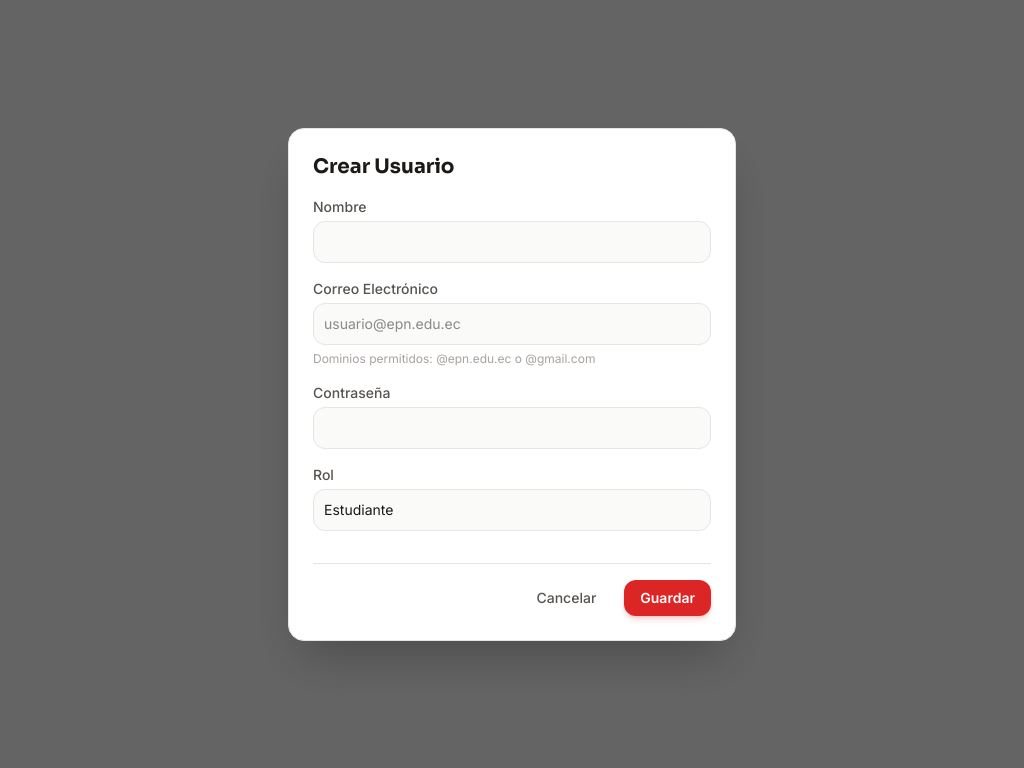
Test: UserFormModal — dominios de correo permitidos › no deja pasar un dominio parecido que suplanta al institucional
Type " impostor " into the field labelled "Nombre" at (512, 242), box [313,220,711,262]
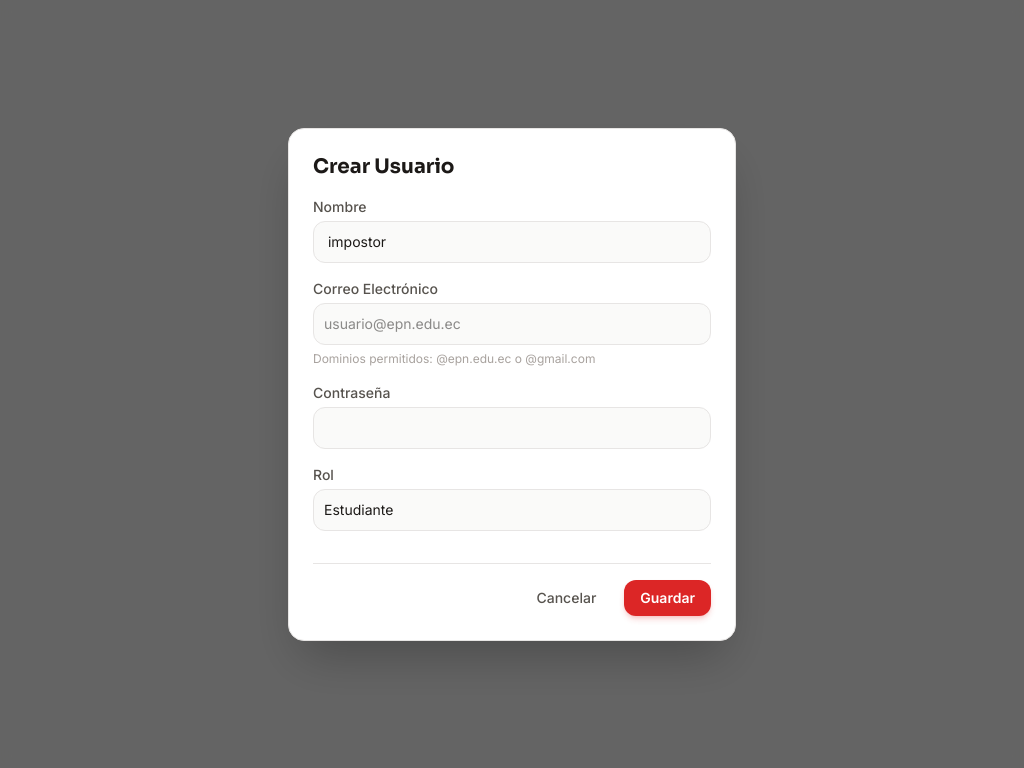
Type "atacante@epn.edu.ec.attacker.com" into the field labelled "Correo Electrónico" at (512, 324), box [313,302,711,344]
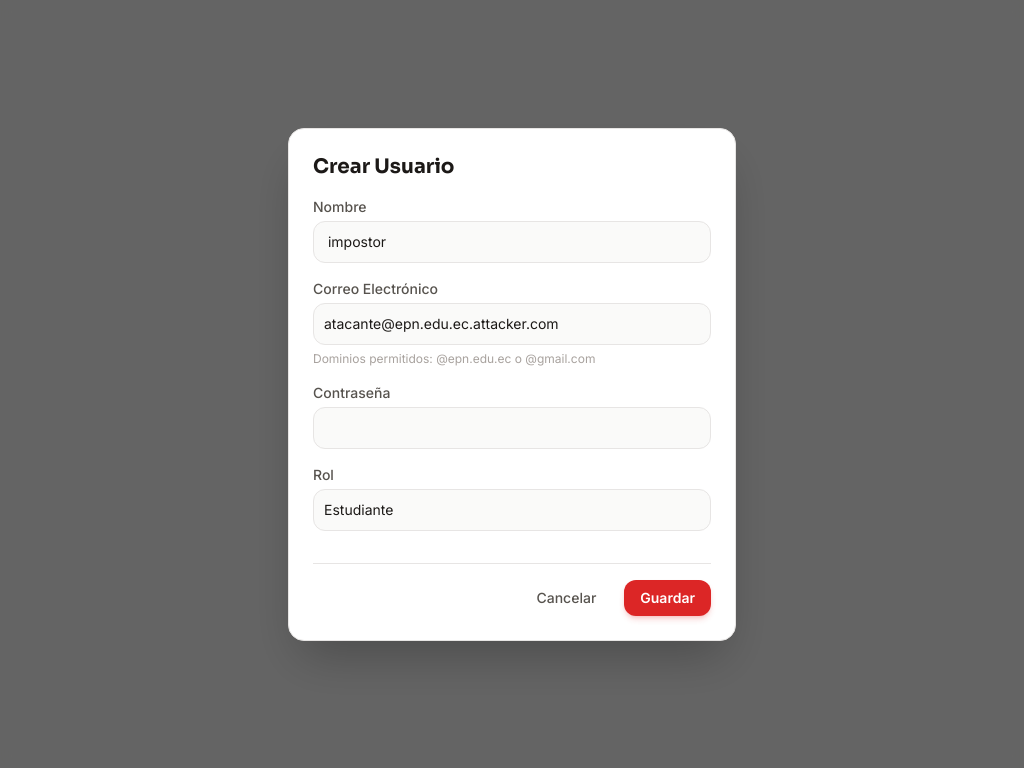
Type "Password123" into the password field labelled "Contraseña" at (512, 428), box [313,406,711,448]
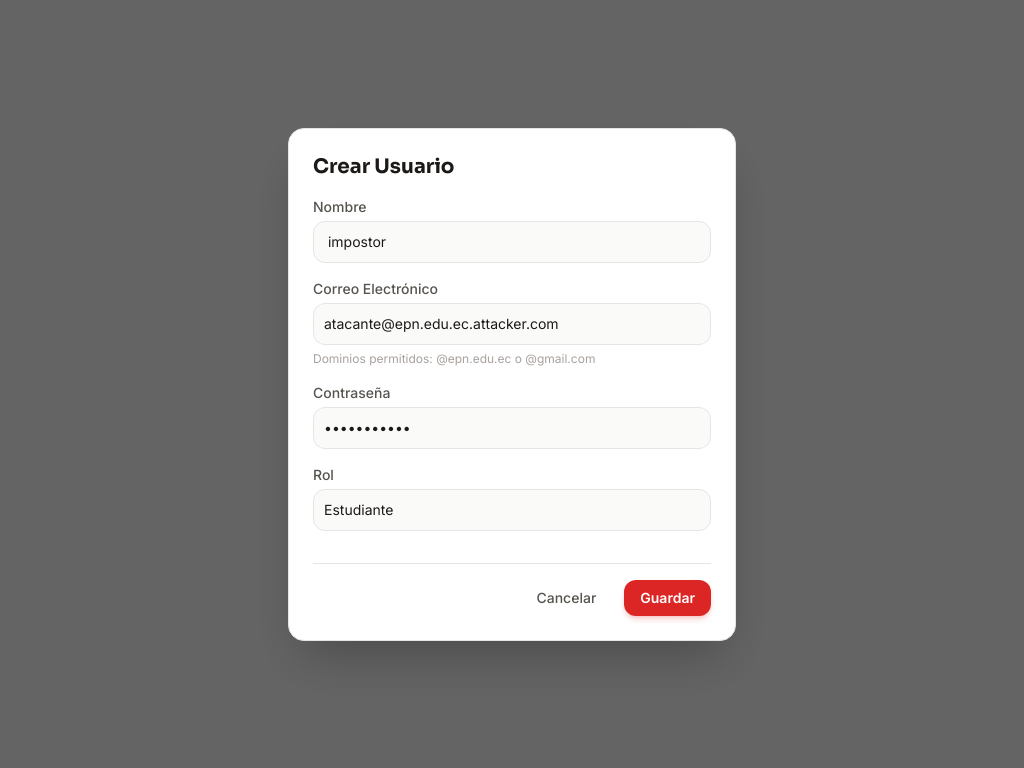
Click the button "Guardar" at (668, 598), box [624,580,711,616]
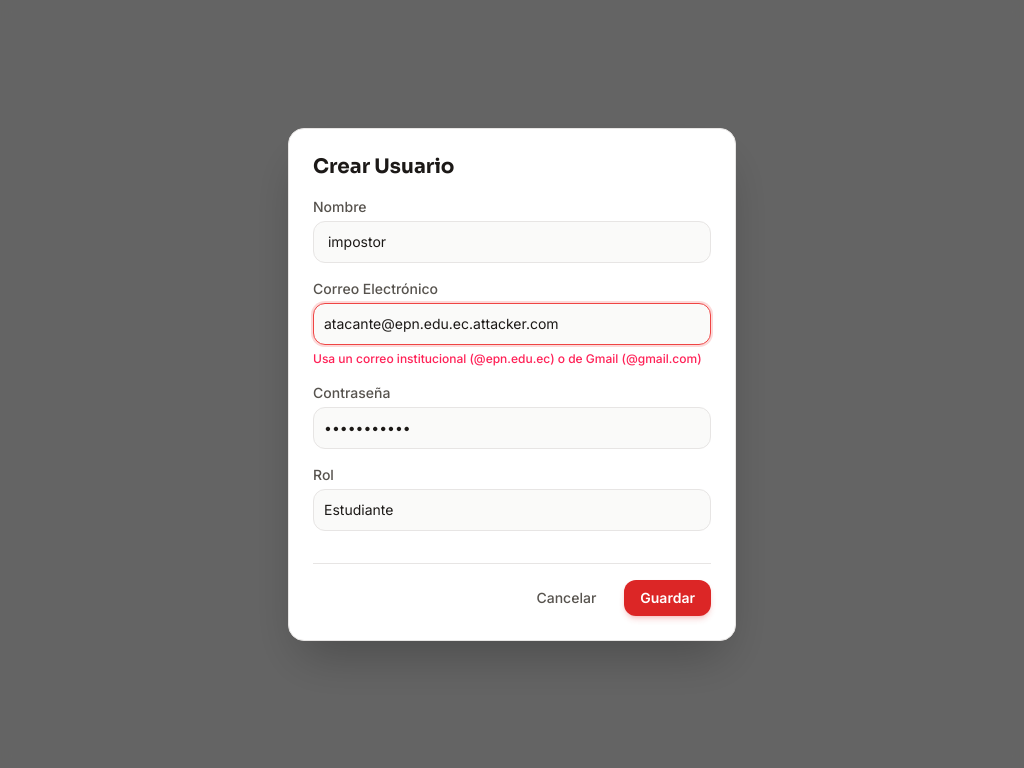
Now the text "Usa un correo institucional" is shown, box [313,350,702,366]
